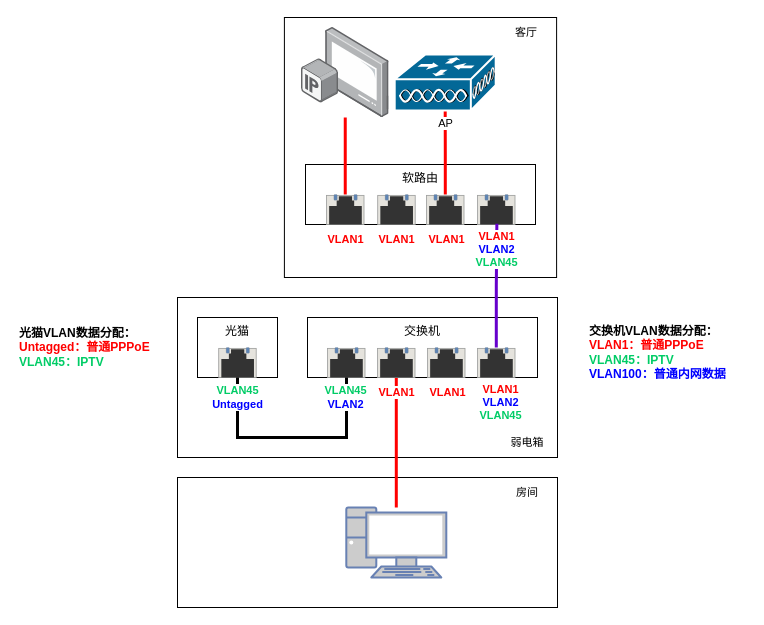
Some shapes in this 764 by 625 pixel diagram are drawn without their labels. Here are the shapes that lost their labels. From the top down, the box of each, then its label:
(301, 27, 389, 117): IPTV
(345, 506, 447, 578): 房间PC
